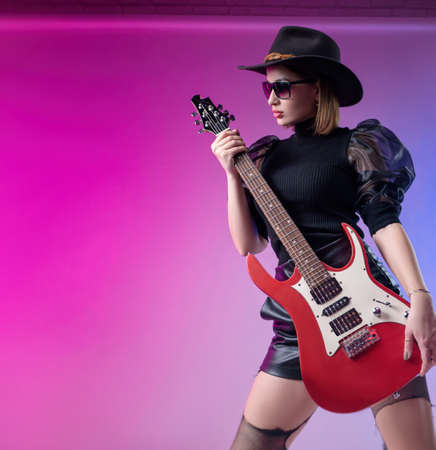acousticguitar: (189, 92, 431, 414)
